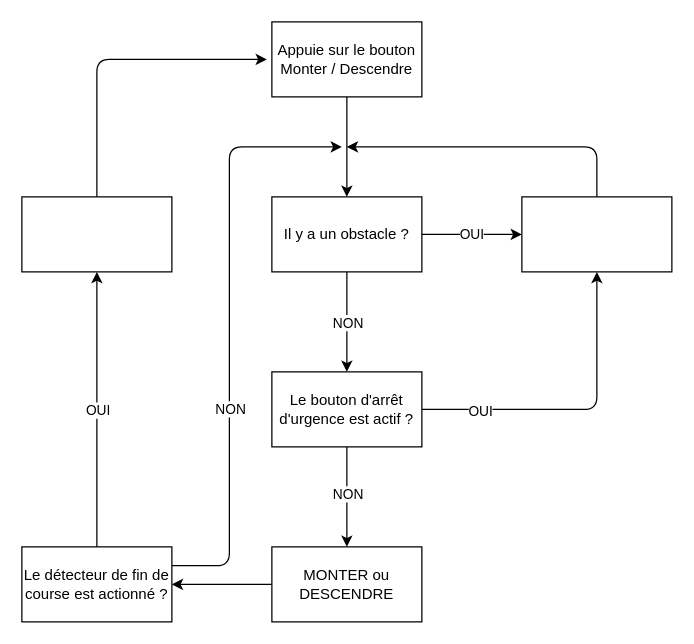
The diagram is 694 pixels wide and 644 high, and some of its shapes have lost their labels. The shapes that lost their labels are listed below. From the top down, each one's centre as x and y in pixels, then its label:
At (96,234): "Arrêter la porte dans sa postion actuelle.".
At (596,234): "Ne rien faire et attendre".
